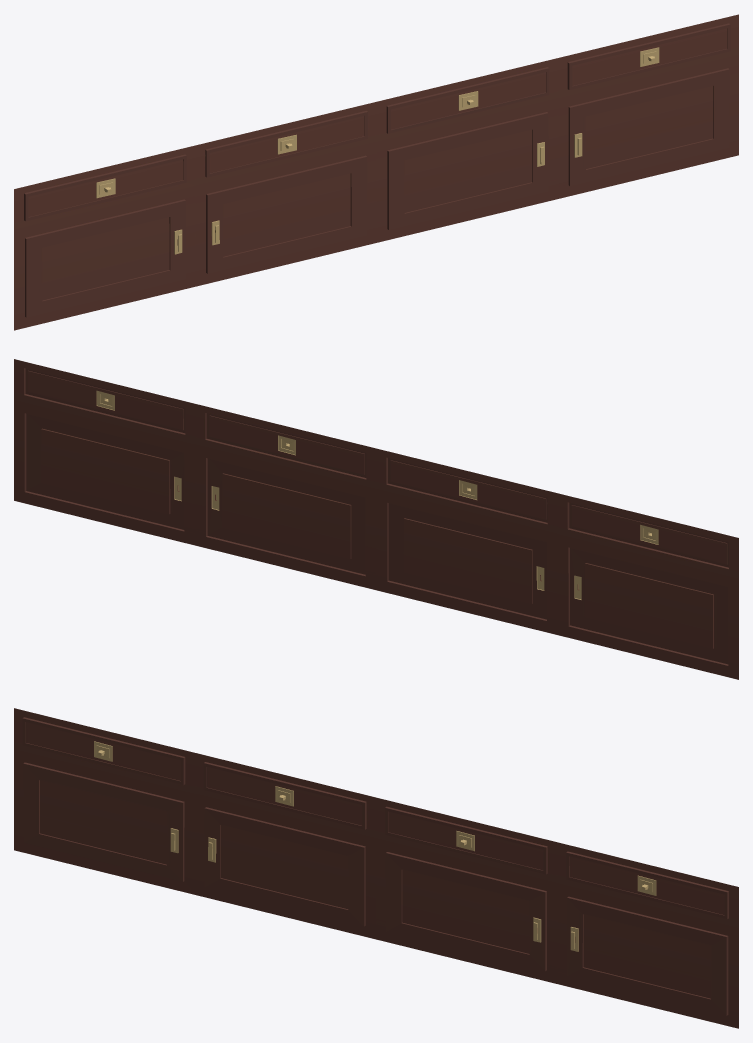
File: shelves.fbx
The picture shows the model from 3 angles, top to bottom: view 1: azimuth 30°, elevation 25°; view 2: azimuth 150°, elevation 25°; view 3: azimuth 330°, elevation 25°; orthographic projection.
Visible parts, largest first — view 1: windowsill_cabinet; view 2: windowsill_cabinet; view 3: windowsill_cabinet.
Part boxes in pixels (x1=…): windowsill_cabinet: x1=14, y1=14, x2=738, y2=330; windowsill_cabinet: x1=14, y1=359, x2=738, y2=679; windowsill_cabinet: x1=14, y1=708, x2=738, y2=1028.
Size of the model in its own units: 546 by 102 by 8.8.
